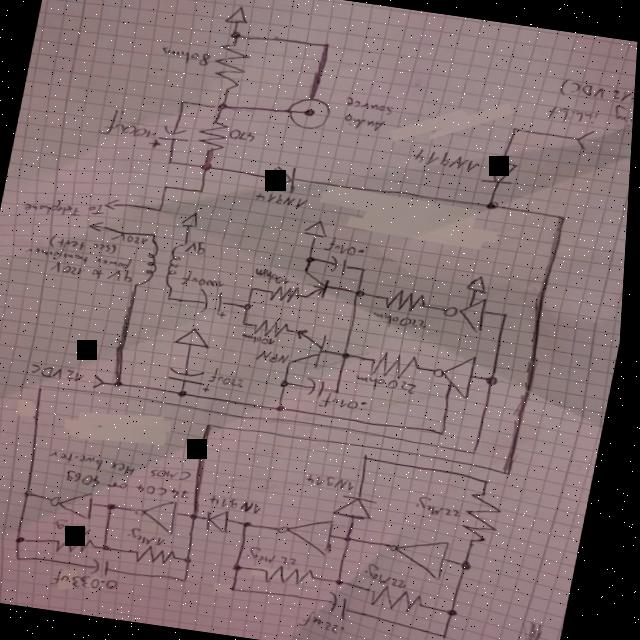capacitor: (169, 366, 219, 394), (150, 124, 194, 155), (199, 288, 236, 322), (333, 591, 362, 622), (308, 378, 336, 401), (333, 256, 356, 278), (97, 558, 120, 580)
diode: (339, 493, 386, 523), (483, 158, 524, 190), (270, 164, 304, 197), (209, 508, 240, 536)
ground: (176, 327, 218, 351), (224, 5, 252, 28), (305, 218, 334, 240), (468, 274, 495, 296), (183, 210, 206, 230)
junction: (463, 559, 482, 573), (488, 375, 506, 388), (216, 102, 233, 115), (200, 162, 218, 174), (193, 511, 209, 523), (488, 201, 504, 213), (28, 488, 42, 501), (247, 520, 261, 532), (105, 544, 121, 554), (111, 503, 127, 513), (506, 468, 521, 478), (454, 609, 468, 619), (231, 31, 245, 41), (321, 42, 335, 52), (239, 564, 252, 574), (22, 536, 35, 546), (359, 290, 372, 300), (284, 380, 297, 390), (340, 578, 353, 588), (279, 404, 292, 414), (309, 256, 321, 266), (41, 384, 53, 394), (345, 352, 358, 361), (182, 390, 195, 399), (246, 303, 257, 312), (504, 312, 515, 321), (512, 126, 524, 134), (190, 557, 202, 565), (236, 586, 248, 594), (350, 536, 362, 544), (179, 100, 190, 108), (118, 381, 129, 389), (22, 556, 31, 564), (562, 215, 571, 223), (169, 160, 178, 168), (338, 389, 347, 397), (158, 208, 168, 215), (200, 189, 210, 196), (211, 423, 221, 430), (169, 296, 178, 303), (489, 480, 498, 487), (368, 455, 377, 462), (444, 431, 453, 438), (476, 450, 485, 457), (244, 321, 253, 328), (363, 268, 373, 274), (165, 185, 173, 192), (449, 634, 458, 640), (188, 578, 197, 584), (253, 288, 261, 294), (155, 233, 162, 238)
resistor: (465, 491, 513, 548), (210, 42, 255, 95), (372, 584, 436, 618), (370, 350, 431, 382), (265, 564, 327, 590), (385, 289, 436, 317), (197, 119, 234, 155), (137, 544, 188, 569), (58, 534, 105, 558), (255, 318, 296, 341), (271, 284, 305, 306)
terminal: (286, 95, 336, 134), (575, 129, 599, 154), (90, 220, 113, 234), (95, 374, 113, 390), (106, 198, 125, 212)
text: (51, 450, 201, 486), (69, 469, 200, 504), (547, 96, 636, 136), (27, 242, 139, 272), (23, 193, 112, 225), (559, 78, 636, 111), (99, 108, 161, 144), (50, 260, 132, 285), (414, 148, 486, 175), (56, 569, 128, 595), (51, 234, 125, 258), (304, 610, 359, 637), (359, 374, 425, 396), (374, 311, 434, 335), (369, 563, 419, 591), (252, 546, 310, 570), (213, 495, 273, 518), (420, 495, 473, 521), (158, 46, 215, 69), (33, 363, 92, 385), (323, 392, 376, 416), (309, 472, 365, 494), (325, 236, 375, 260), (256, 190, 313, 210), (183, 270, 232, 292), (346, 98, 398, 118), (58, 518, 104, 540), (344, 114, 389, 136), (213, 366, 252, 391), (133, 528, 176, 550), (257, 267, 298, 287), (112, 232, 154, 248), (259, 349, 296, 366), (245, 334, 281, 348), (230, 129, 260, 145), (188, 240, 213, 258)
transformer: (138, 238, 192, 294)
transistor: (292, 328, 335, 374), (301, 271, 338, 303)
